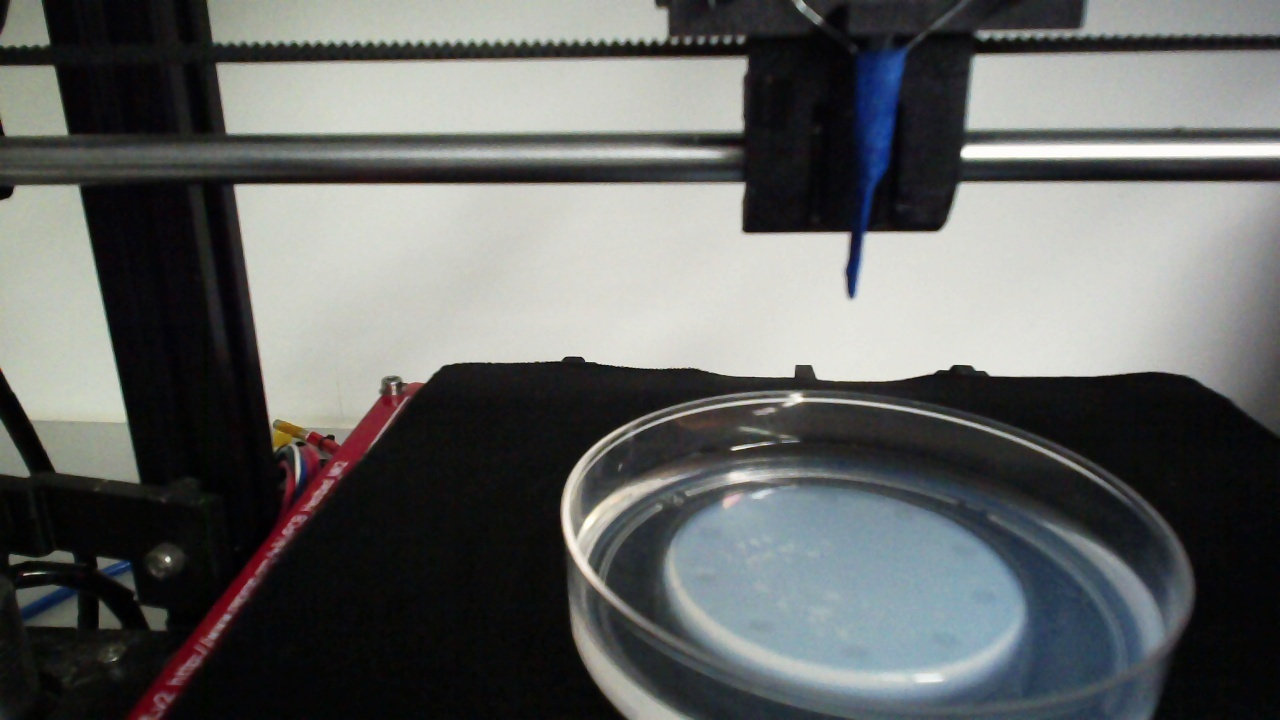groove: (840, 644, 869, 660), (933, 632, 962, 646), (952, 543, 979, 558), (747, 620, 778, 633), (971, 588, 996, 603), (698, 524, 721, 539), (691, 573, 718, 585), (894, 505, 914, 521)
needle: (846, 53, 904, 298)
